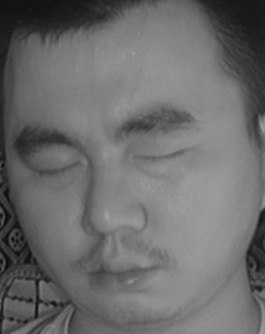blink: (131, 136, 190, 178), (33, 152, 85, 185)
mouth: (79, 244, 157, 300)
